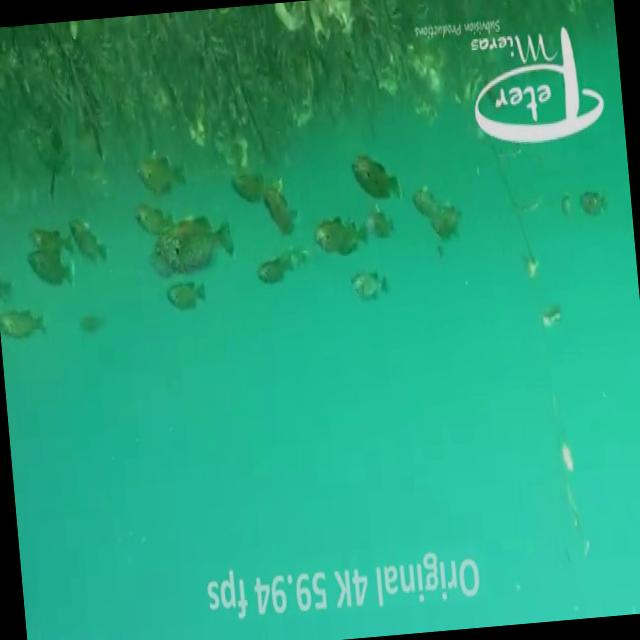Gunes Levregi: (160, 210, 238, 276), (26, 242, 74, 302), (351, 150, 398, 207), (132, 150, 187, 194), (348, 264, 388, 303), (316, 214, 350, 256)
